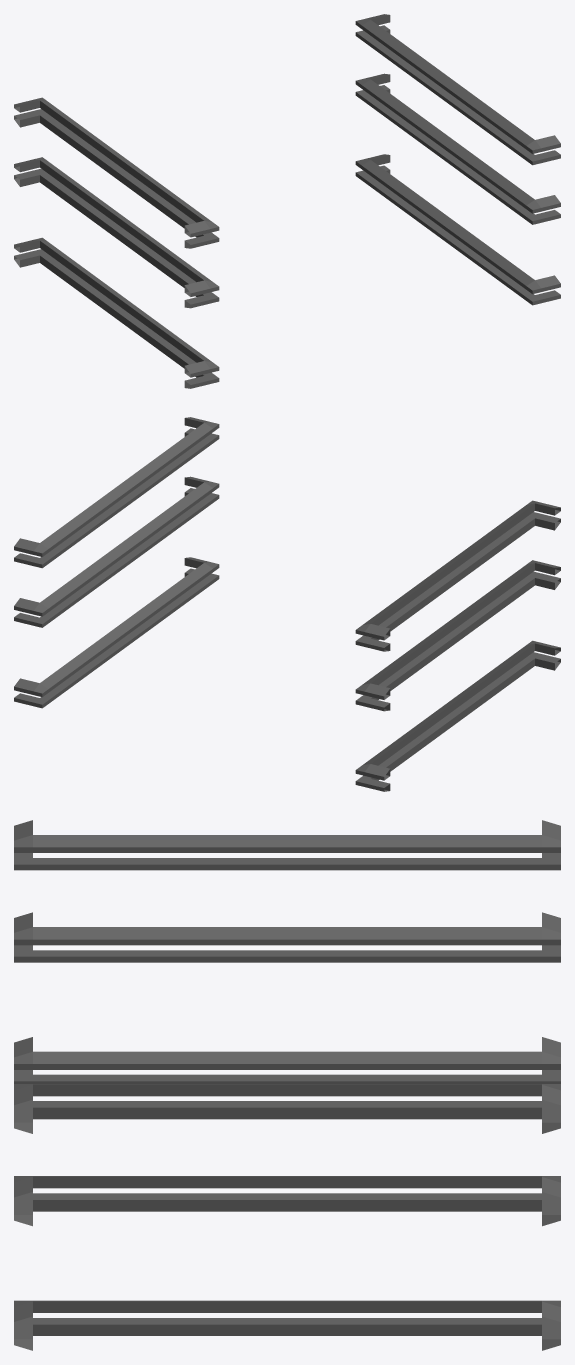
File: KAC-F600_TrayGuide_V2.glb
3 renders of one model, top to bottom at view 1: azimuth 30°, elevation 25°; view 2: azimuth 150°, elevation 25°; view 3: azimuth 270°, elevation 25°, orthographic. The views are drawn at different scales.
Visible parts, largest first — view 1: KAC-F600_TrayGuide_V2; view 2: KAC-F600_TrayGuide_V2; view 3: KAC-F600_TrayGuide_V2.
Boxes of the visible parts, x1,y1,x2,y2 form: KAC-F600_TrayGuide_V2: (14, 14, 560, 388); KAC-F600_TrayGuide_V2: (14, 417, 560, 791); KAC-F600_TrayGuide_V2: (14, 820, 560, 1350).
Size of the model in its own units: 0.52 by 0.218 by 0.43.
1 material, 1 textured.
